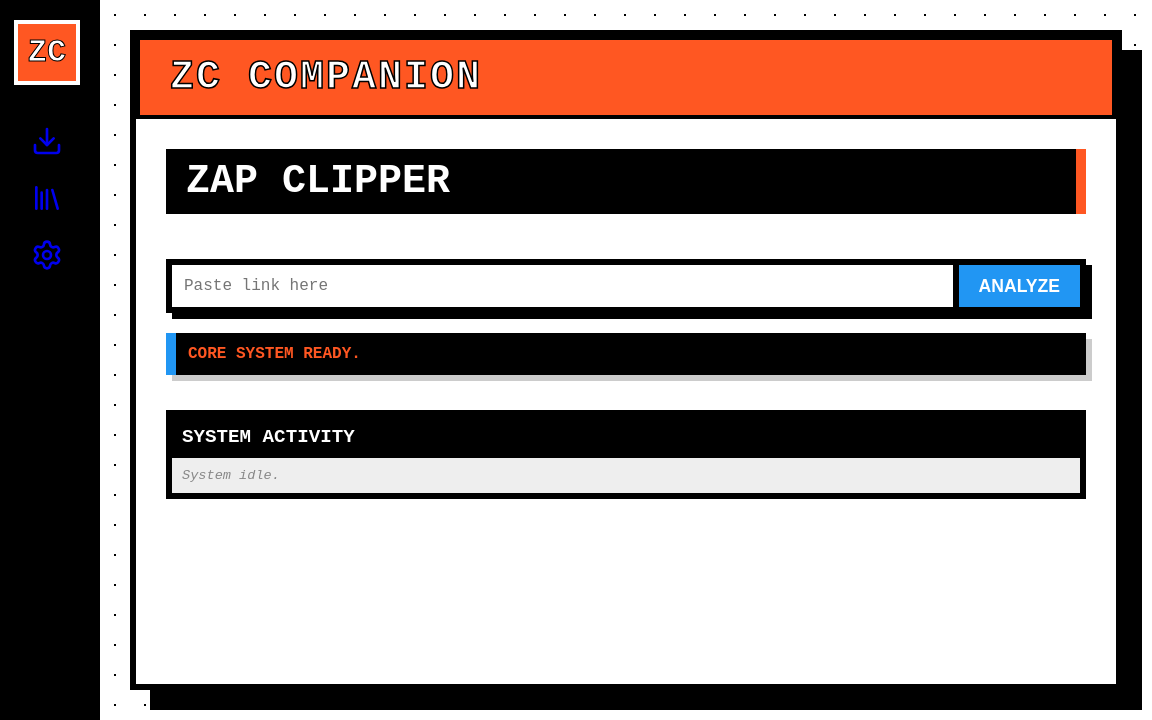
Sidebar Navigation › navigates to library page when library icon is clicked
Click the link named "Library" at (47, 200), box [31, 182, 63, 219]
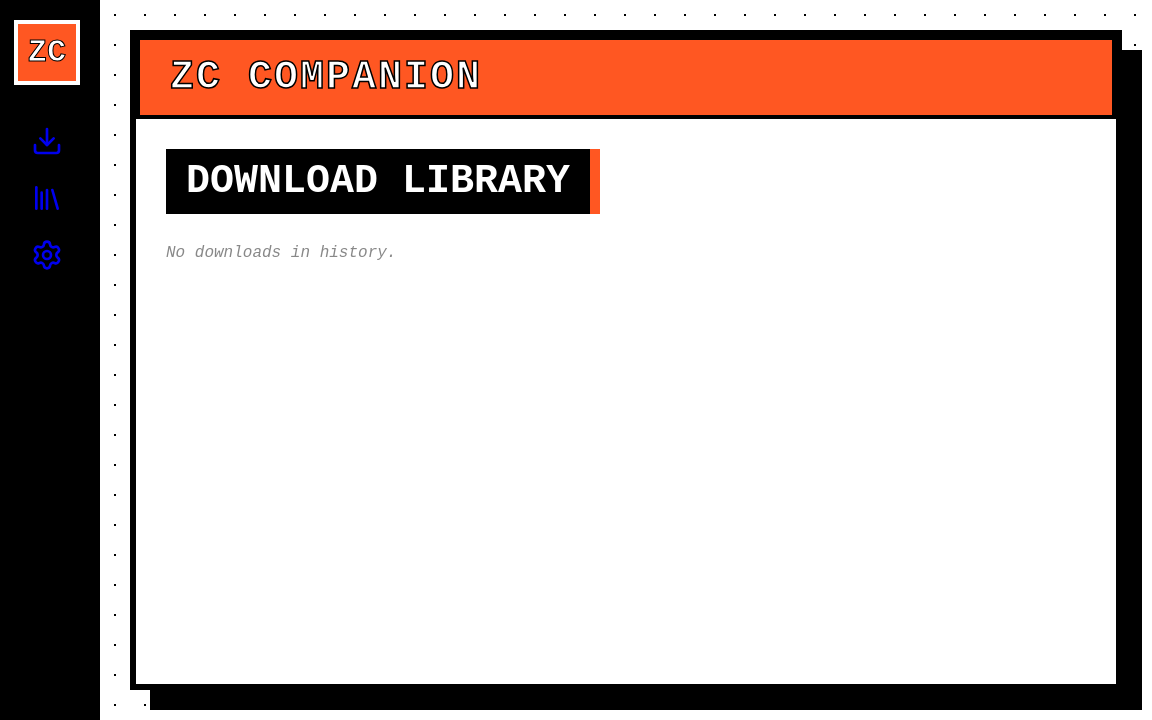
Check: the heading "Download Library" is shown, box [166, 149, 600, 214]
